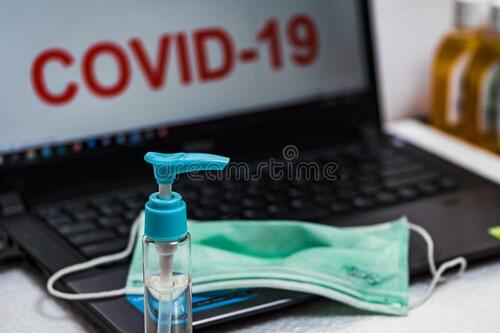sanitizer: (137, 149, 224, 333)
